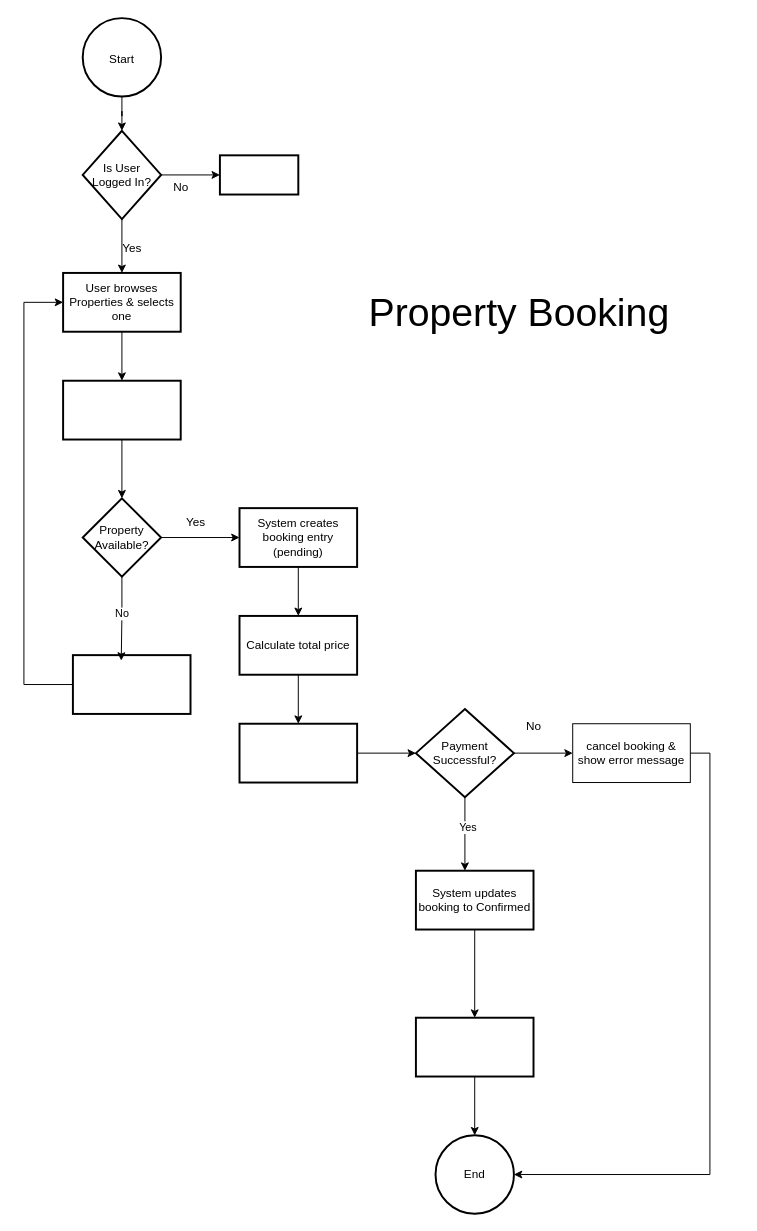
Some shapes in this 757 by 1231 pixel diagram are drawn without their labels. The shapes that lost their labels are listed below. From the top down, each one's centre as x and y in pixels, then its label:
At (x=258, y=174): "Login".
At (x=121, y=409): "System checks property availability".
At (x=131, y=684): "Show error".
At (x=298, y=752): "Process payment".
At (x=474, y=1046): "Send confirmation email to user".
